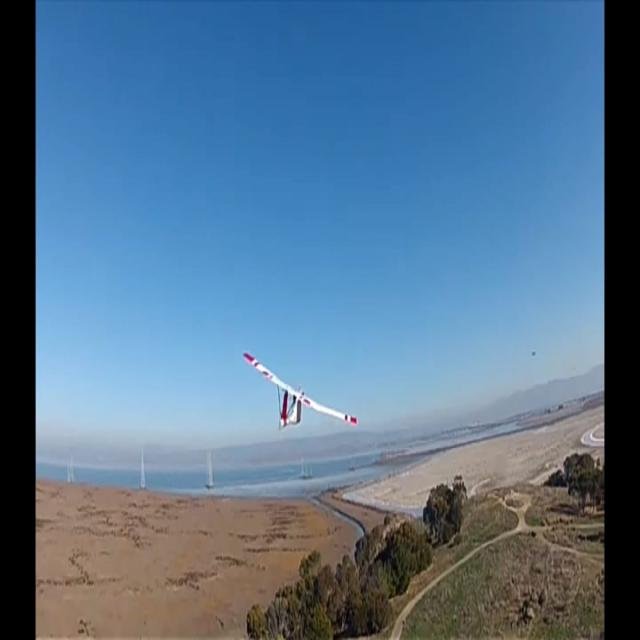iha: (274, 377, 326, 395)
